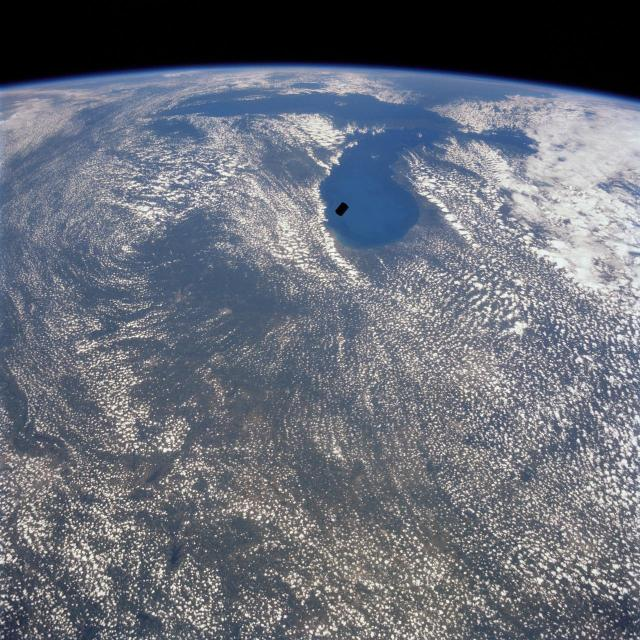satellite: (335, 202, 349, 216)
